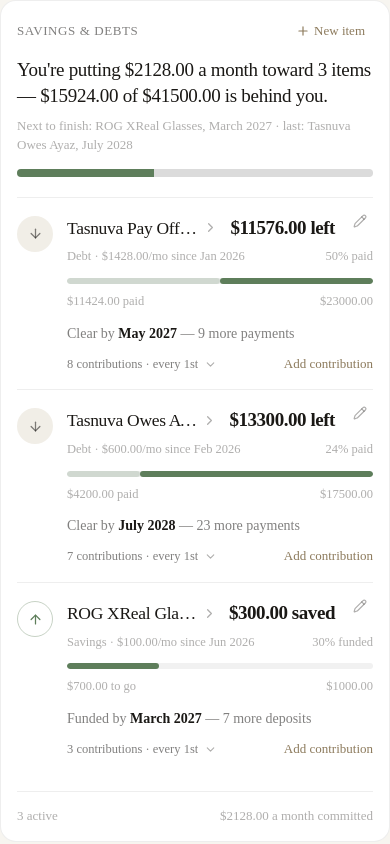
Test case: Savings & Debts section — one ledger open at a time › collapses the first when a second is opened
Click the button with test id "sd-disclosure": x=142, y=557 [67, 543, 217, 570]
(page scrolled)
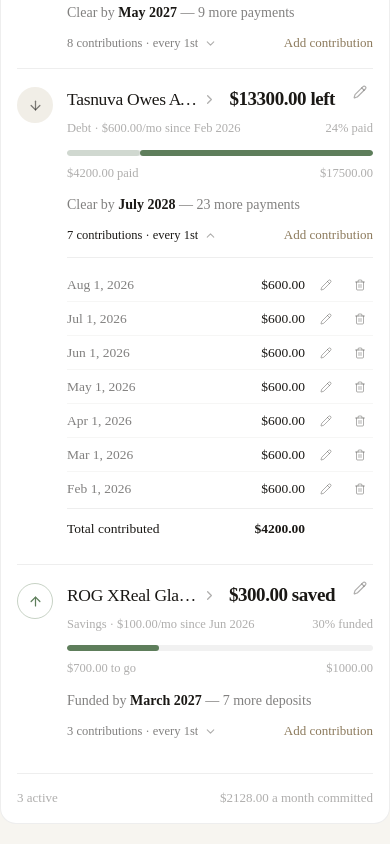
Expected: the number of list items with test id "ledger-row" is 7
Click the button with test id "sd-disclosure": x=142, y=732 [67, 718, 217, 745]
(page scrolled)
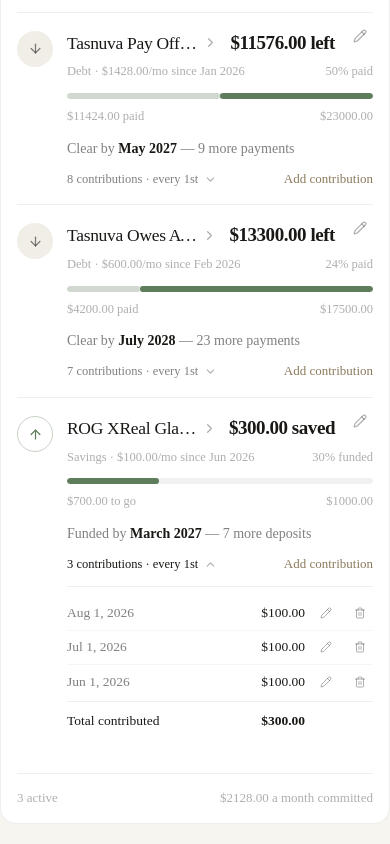
Expected: the number of list items with test id "ledger-row" is 3, [67, 597, 373, 631]; [67, 631, 373, 665]; [67, 665, 373, 699]
